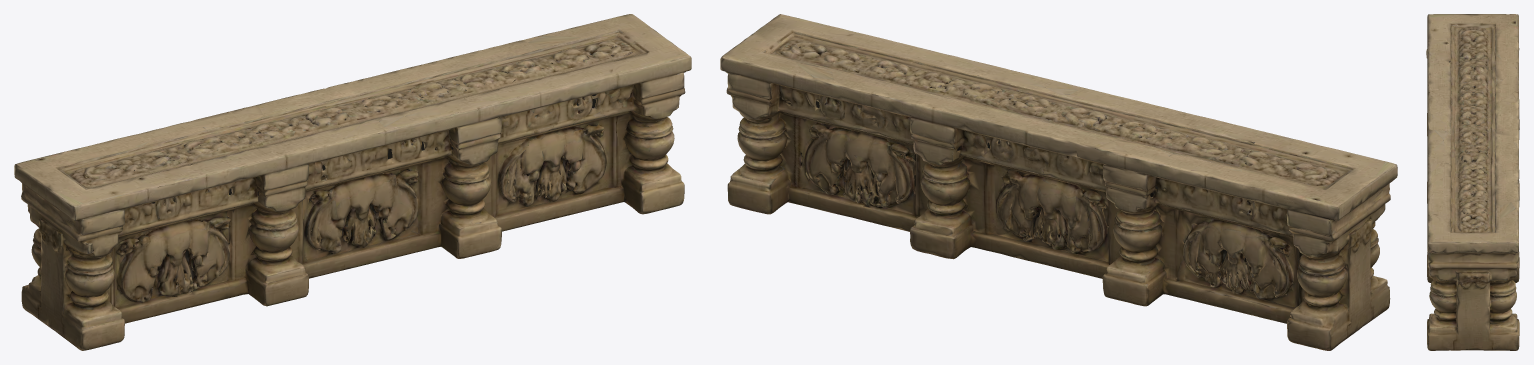
File: decorative-roof-cornice-section-sandstone-optimized.glb
3 views of the same model, side by side, from view 1: azimuth 30°, elevation 25°; view 2: azimuth 150°, elevation 25°; view 3: azimuth 270°, elevation 25° (orthographic). The views are drawn at different scales.
Parts seen in each view (by area): view 1: world; view 2: world; view 3: world.
Part boxes in pixels (x1,y1,x2,y2): world: (14, 14, 691, 350); world: (720, 14, 1397, 350); world: (1426, 14, 1519, 350).
Size of the model in its own units: 2.5 by 0.5785 by 0.429.
Materials: 1 (1 with a texture image).
